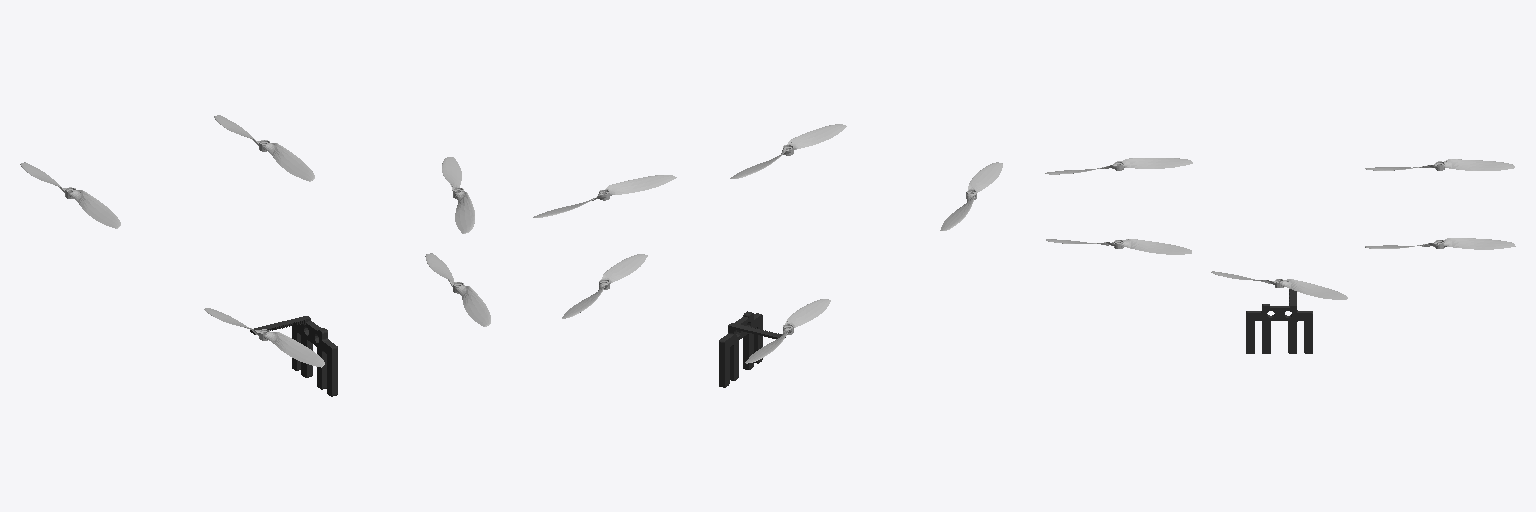
URDF robot description (Hexa_nov_V2):
<?xml version="1.0" encoding="utf-8"?>
<!-- This URDF was automatically created by SolidWorks to URDF Exporter! Originally created by Stephen Brawner ([email redacted]) 
     Commit Version: 1.6.0-4-g7f85cfe  Build Version: 1.6.7995.38578
     For more information, please see http://wiki.ros.org/sw_urdf_exporter -->
<robot
  name="Hexa_nov_V2">
  <link
    name="base_link">
    <inertial>
      <origin
        xyz="0.00102621146286421 -0.0188046052722119 0.00508584464388713"
        rpy="0 0 0" />
      <mass
        value="1.67990502595448" />
      <inertia
        ixx="0.00257193129712044"
        ixy="1.67068923695678E-09"
        ixz="-3.55430051790077E-08"
        iyy="0.00467566709892528"
        iyz="-6.41265575810464E-08"
        izz="0.0025903031252896" />
    </inertial>
    <visual>
      <origin
        xyz="0 0 0"
        rpy="0 0 0" />
      <geometry>
        <mesh
          filename="package://Hexa_nov_V2/meshes/base_link.STL" />
      </geometry>
      <material
        name="">
        <color
          rgba="0.792156862745098 0.819607843137255 0.933333333333333 1" />
      </material>
    </visual>
    <collision>
      <origin
        xyz="0 0 0"
        rpy="0 0 0" />
      <geometry>
        <mesh
          filename="package://Hexa_nov_V2/meshes/base_link.STL" />
      </geometry>
    </collision>
  </link>
  <link
    name="Propeller1">
    <inertial>
      <origin
        xyz="-3.28623572909414E-07 0.00439679150925019 -6.51437577161518E-07"
        rpy="0 0 0" />
      <mass
        value="0.00751263614529959" />
      <inertia
        ixx="1.74309820571611E-05"
        ixy="1.49424727304143E-11"
        ixz="-1.55538106683582E-06"
        iyy="1.77031266704762E-05"
        iyz="2.91143150409736E-11"
        izz="3.33965410387138E-07" />
    </inertial>
    <visual>
      <origin
        xyz="0 0 0"
        rpy="0 0 0" />
      <geometry>
        <mesh
          filename="package://Hexa_nov_V2/meshes/Propeller1.STL" />
      </geometry>
      <material
        name="">
        <color
          rgba="0.752941176470588 0.752941176470588 0.752941176470588 1" />
      </material>
    </visual>
    <collision>
      <origin
        xyz="0 0 0"
        rpy="0 0 0" />
      <geometry>
        <mesh
          filename="package://Hexa_nov_V2/meshes/Propeller1.STL" />
      </geometry>
    </collision>
  </link>
  <joint
    name="Propeller1-j"
    type="continuous">
    <origin
      xyz="-0.25512 1.5379E-05 0.032508"
      rpy="1.5708 0 0" />
    <parent
      link="base_link" />
    <child
      link="Propeller1" />
    <axis
      xyz="0 1 0" />
  </joint>
  <link
    name="Propeller2">
    <inertial>
      <origin
        xyz="-3.30508304807742E-07 0.00439649624959344 -1.28018277054109E-06"
        rpy="0 0 0" />
      <mass
        value="0.00751225192359442" />
      <inertia
        ixx="1.74308065366492E-05"
        ixy="1.48984506975798E-11"
        ixz="-1.55517937517055E-06"
        iyy="1.77029024807503E-05"
        iyz="1.71764638866531E-11"
        izz="3.33910655415209E-07" />
    </inertial>
    <visual>
      <origin
        xyz="0 0 0"
        rpy="0 0 0" />
      <geometry>
        <mesh
          filename="package://Hexa_nov_V2/meshes/Propeller2.STL" />
      </geometry>
      <material
        name="">
        <color
          rgba="0.752941176470588 0.752941176470588 0.752941176470588 1" />
      </material>
    </visual>
    <collision>
      <origin
        xyz="0 0 0"
        rpy="0 0 0" />
      <geometry>
        <mesh
          filename="package://Hexa_nov_V2/meshes/Propeller2.STL" />
      </geometry>
    </collision>
  </link>
  <joint
    name="Propeller2-j"
    type="continuous">
    <origin
      xyz="0.25512 -1.5379E-05 0.032508"
      rpy="1.5708 0 -0.47125" />
    <parent
      link="base_link" />
    <child
      link="Propeller2" />
    <axis
      xyz="0 1 0" />
  </joint>
  <link
    name="Propeller3">
    <inertial>
      <origin
        xyz="-3.28716170616694E-07 0.00439648670719835 -6.89899096184554E-07"
        rpy="0 0 0" />
      <mass
        value="0.00751231788243411" />
      <inertia
        ixx="1.74309000214862E-05"
        ixy="1.49375090080403E-11"
        ixz="-1.55515809108942E-06"
        iyy="1.77029946901512E-05"
        iyz="2.87277787727423E-11"
        izz="3.33909863839714E-07" />
    </inertial>
    <visual>
      <origin
        xyz="0 0 0"
        rpy="0 0 0" />
      <geometry>
        <mesh
          filename="package://Hexa_nov_V2/meshes/Propeller3.STL" />
      </geometry>
      <material
        name="">
        <color
          rgba="0.752941176470588 0.752941176470588 0.752941176470588 1" />
      </material>
    </visual>
    <collision>
      <origin
        xyz="0 0 0"
        rpy="0 0 0" />
      <geometry>
        <mesh
          filename="package://Hexa_nov_V2/meshes/Propeller3.STL" />
      </geometry>
    </collision>
  </link>
  <joint
    name="Propeller3-j"
    type="continuous">
    <origin
      xyz="0.12755 -0.22095 0.032508"
      rpy="1.5708 0 -0.23418" />
    <parent
      link="base_link" />
    <child
      link="Propeller3" />
    <axis
      xyz="0 1 0" />
  </joint>
  <link
    name="Propeller4">
    <inertial>
      <origin
        xyz="-3.28267353771894E-07 0.00439679224022817 -6.12670876226629E-07"
        rpy="0 0 0" />
      <mass
        value="0.00751263238021885" />
      <inertia
        ixx="1.74309591882528E-05"
        ixy="1.49387152819401E-11"
        ixz="-1.55538092886439E-06"
        iyy="1.77031038068463E-05"
        iyz="2.9487135387314E-11"
        izz="3.33965407479089E-07" />
    </inertial>
    <visual>
      <origin
        xyz="0 0 0"
        rpy="0 0 0" />
      <geometry>
        <mesh
          filename="package://Hexa_nov_V2/meshes/Propeller4.STL" />
      </geometry>
      <material
        name="">
        <color
          rgba="0.752941176470588 0.752941176470588 0.752941176470588 1" />
      </material>
    </visual>
    <collision>
      <origin
        xyz="0 0 0"
        rpy="0 0 0" />
      <geometry>
        <mesh
          filename="package://Hexa_nov_V2/meshes/Propeller4.STL" />
      </geometry>
    </collision>
  </link>
  <joint
    name="Propeller4-j"
    type="continuous">
    <origin
      xyz="-0.12755 0.22095 0.032508"
      rpy="1.5708 0 0" />
    <parent
      link="base_link" />
    <child
      link="Propeller4" />
    <axis
      xyz="0 1 0" />
  </joint>
  <link
    name="Propeller5">
    <inertial>
      <origin
        xyz="-3.26275975459644E-07 0.00439680740537188 1.94983928225589E-07"
        rpy="0 0 0" />
      <mass
        value="0.00751259115719798" />
      <inertia
        ixx="1.74303691851218E-05"
        ixy="1.49729590015606E-11"
        ixz="-1.55538244736272E-06"
        iyy="1.77025137553675E-05"
        iyz="4.00690164245091E-11"
        izz="3.33965144828296E-07" />
    </inertial>
    <visual>
      <origin
        xyz="0 0 0"
        rpy="0 0 0" />
      <geometry>
        <mesh
          filename="package://Hexa_nov_V2/meshes/Propeller5.STL" />
      </geometry>
      <material
        name="">
        <color
          rgba="0.752941176470588 0.752941176470588 0.752941176470588 1" />
      </material>
    </visual>
    <collision>
      <origin
        xyz="0 0 0"
        rpy="0 0 0" />
      <geometry>
        <mesh
          filename="package://Hexa_nov_V2/meshes/Propeller5.STL" />
      </geometry>
    </collision>
  </link>
  <joint
    name="Propeller5-j"
    type="continuous">
    <origin
      xyz="-0.12757 -0.22093 0.032508"
      rpy="1.5708 0 0.149" />
    <parent
      link="base_link" />
    <child
      link="Propeller5" />
    <axis
      xyz="0 1 0" />
  </joint>
  <link
    name="Propeller6">
    <inertial>
      <origin
        xyz="-3.28496365220587E-07 0.00439679284323045 -6.51267136136946E-07"
        rpy="0 0 0" />
      <mass
        value="0.00751262837869122" />
      <inertia
        ixx="1.74309363085296E-05"
        ixy="1.49384614007434E-11"
        ixz="-1.55538077810827E-06"
        iyy="1.77030809295232E-05"
        iyz="2.9107391564994E-11"
        izz="3.3396539392712E-07" />
    </inertial>
    <visual>
      <origin
        xyz="0 0 0"
        rpy="0 0 0" />
      <geometry>
        <mesh
          filename="package://Hexa_nov_V2/meshes/Propeller6.STL" />
      </geometry>
      <material
        name="">
        <color
          rgba="0.752941176470588 0.752941176470588 0.752941176470588 1" />
      </material>
    </visual>
    <collision>
      <origin
        xyz="0 0 0"
        rpy="0 0 0" />
      <geometry>
        <mesh
          filename="package://Hexa_nov_V2/meshes/Propeller6.STL" />
      </geometry>
    </collision>
  </link>
  <joint
    name="Propeller6-j"
    type="continuous">
    <origin
      xyz="0.12758 0.22093 0.032508"
      rpy="1.5708 0 0" />
    <parent
      link="base_link" />
    <child
      link="Propeller6" />
    <axis
      xyz="0 1 0" />
  </joint>
  <link
    name="Spur-rack1">
    <inertial>
      <origin
        xyz="0.00631689422386883 0.0228058904998909 -0.0335118083435153"
        rpy="0 0 0" />
      <mass
        value="0.0397845645111195" />
      <inertia
        ixx="5.04475177999414E-05"
        ixy="1.64683468841987E-06"
        ixz="-2.94988196511607E-06"
        iyy="2.23831113476059E-05"
        iyz="1.51780907101344E-06"
        izz="3.67617732004022E-05" />
    </inertial>
    <visual>
      <origin
        xyz="0 0 0"
        rpy="0 0 0" />
      <geometry>
        <mesh
          filename="package://Hexa_nov_V2/meshes/Spur-rack1.STL" />
      </geometry>
      <material
        name="">
        <color
          rgba="0.250980392156863 0.250980392156863 0.250980392156863 1" />
      </material>
    </visual>
    <collision>
      <origin
        xyz="0 0 0"
        rpy="0 0 0" />
      <geometry>
        <mesh
          filename="package://Hexa_nov_V2/meshes/Spur-rack1.STL" />
      </geometry>
    </collision>
  </link>
  <joint
    name="Spur-rack1-j"
    type="prismatic">
    <origin
      xyz="-0.07 -0.024 -0.083"
      rpy="0 0 0" />
    <parent
      link="base_link" />
    <child
      link="Spur-rack1" />
    <axis
      xyz="0 0 0" />
    <limit
      lower="0"
      upper="0"
      effort="0"
      velocity="0" />
  </joint>
  <link
    name="Spur-rack2">
    <inertial>
      <origin
        xyz="0.00631689422386877 0.022805890499891 -0.0335118083435153"
        rpy="0 0 0" />
      <mass
        value="0.0397845645111194" />
      <inertia
        ixx="5.04475177999414E-05"
        ixy="1.64683468841986E-06"
        ixz="-2.94988196511606E-06"
        iyy="2.23831113476059E-05"
        iyz="1.51780907101344E-06"
        izz="3.67617732004021E-05" />
    </inertial>
    <visual>
      <origin
        xyz="0 0 0"
        rpy="0 0 0" />
      <geometry>
        <mesh
          filename="package://Hexa_nov_V2/meshes/Spur-rack2.STL" />
      </geometry>
      <material
        name="">
        <color
          rgba="0.250980392156863 0.250980392156863 0.250980392156863 1" />
      </material>
    </visual>
    <collision>
      <origin
        xyz="0 0 0"
        rpy="0 0 0" />
      <geometry>
        <mesh
          filename="package://Hexa_nov_V2/meshes/Spur-rack2.STL" />
      </geometry>
    </collision>
  </link>
  <joint
    name="Spur-rack2-j"
    type="prismatic">
    <origin
      xyz="0.07 0.024 -0.083"
      rpy="0 0 3.1416" />
    <parent
      link="base_link" />
    <child
      link="Spur-rack2" />
    <axis
      xyz="0 0 0" />
    <limit
      lower="0"
      upper="0"
      effort="0"
      velocity="0" />
  </joint>
</robot>

--- What the picture shows (computed from the rendered views, not written in the file) ---
3 views of the same robot in one strip: view 1: azimuth 30°, elevation 25°; view 2: azimuth 150°, elevation 25°; view 3: azimuth 270°, elevation 25° (orthographic).
Robot: Hexa_nov_V2 — 9 links, 8 joints (6 continuous, 2 prismatic); root link base_link; default pose: all joints at 0.
Links seen in each view (by area): view 1: Spur-rack2, Propeller5, Propeller6, Propeller4, Propeller3, Propeller2; view 2: Spur-rack2, Propeller2, Propeller3, Propeller6, Propeller4, Propeller5; view 3: Spur-rack2, Propeller6, Propeller4, Propeller5, Propeller3, Propeller2.
Boxes of the visible links, box(x1,y1,x2,y2) form: Spur-rack2: box(250, 316, 337, 396); Propeller5: box(204, 308, 324, 367); Propeller6: box(214, 115, 314, 181); Propeller4: box(20, 162, 120, 228); Propeller3: box(425, 253, 490, 326); Propeller2: box(442, 157, 474, 233); Spur-rack2: box(719, 311, 785, 387); Propeller2: box(533, 175, 676, 217); Propeller3: box(730, 124, 846, 178); Propeller6: box(562, 254, 647, 318); Propeller4: box(745, 299, 830, 363); Propeller5: box(940, 162, 1002, 230); Spur-rack2: box(1246, 289, 1312, 353); Propeller6: box(1365, 238, 1515, 249); Propeller4: box(1365, 159, 1514, 170); Propeller5: box(1045, 158, 1192, 174); Propeller3: box(1046, 239, 1191, 254); Propeller2: box(1211, 271, 1347, 299).
Bounding box of the posed robot: 0.4559 × 0.6481 × 0.1995 m (x, y, z).
6 mesh visuals loaded from 9 distinct referenced files (6 binary STL); not drawn: 3 (reference not matched to a file when rendering).
